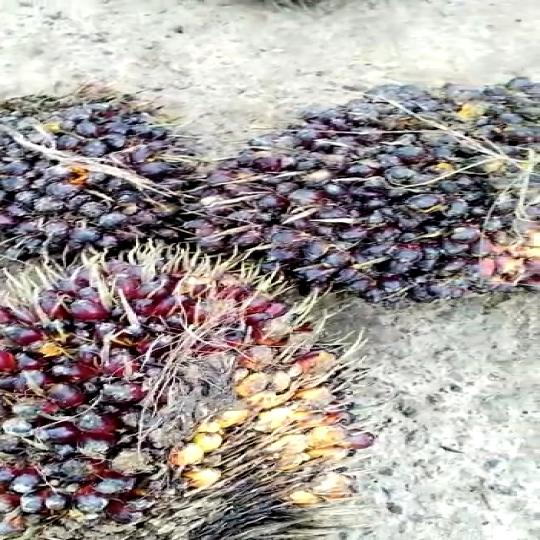kurang masak: (0, 250, 368, 540), (197, 63, 540, 323), (0, 77, 191, 251)
